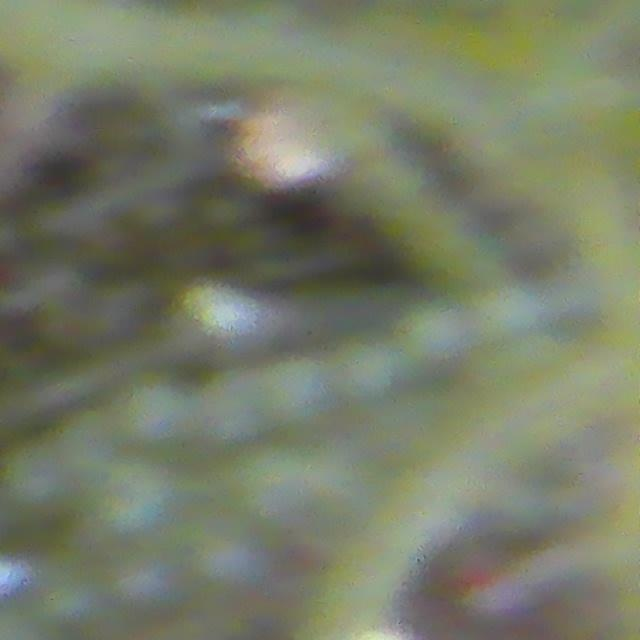SeaGrape: (116, 373, 200, 451), (262, 352, 338, 427), (0, 440, 71, 516), (110, 548, 182, 619), (334, 336, 402, 404), (195, 530, 267, 594)
